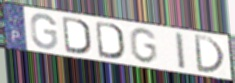D: (192, 33, 227, 76), (94, 19, 126, 61), (60, 14, 92, 56)
G: (29, 12, 60, 51), (128, 27, 158, 65)
I: (174, 31, 188, 72)
